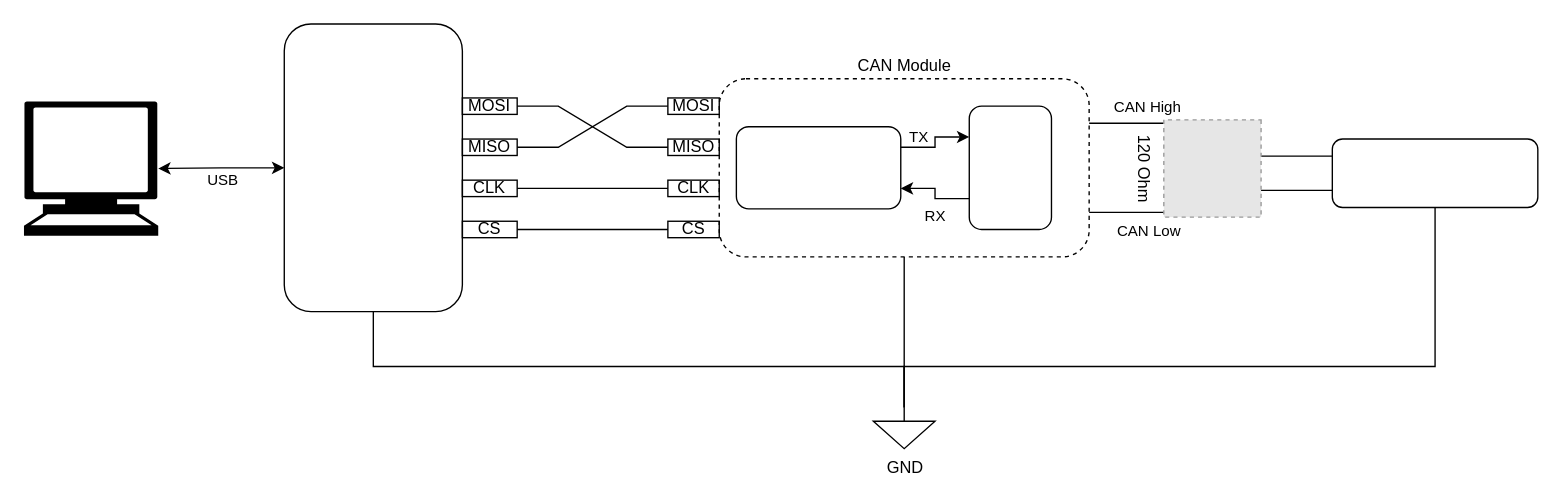
This 1562x501 diagram has some shape labels left out. Grey dashed boxes stand in for pictures. Here are the shapes that lost their labels. From the top down, the centre of each, then its label:
At (372,167): "Vegaboard (RV32M)".
At (818,167): "MCP2515".
At (1009,167): "TJA1050".
At (1434,173): "Another CAN Device".
